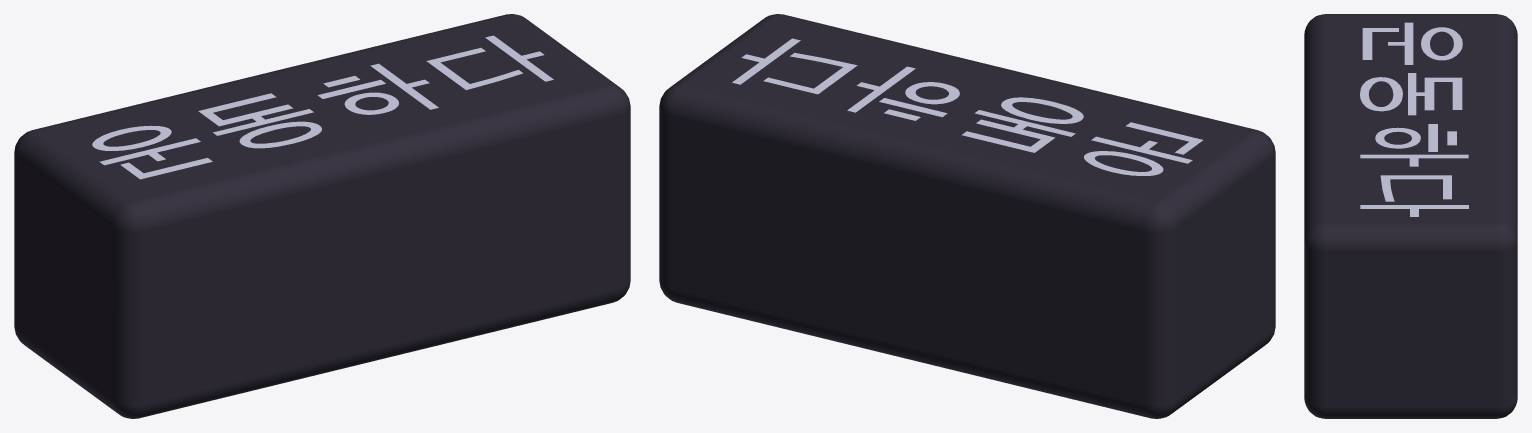
File: exercise.glb
3 renders of one model, left to right at view 1: azimuth 30°, elevation 25°; view 2: azimuth 150°, elevation 25°; view 3: azimuth 270°, elevation 25°, orthographic. The views are drawn at different scales.
Parts seen in each view (by area): view 1: Cut, Extrude; view 2: Cut, Extrude; view 3: Cut, Extrude.
Part boxes in pixels (x1=…): Cut: x1=14, y1=14, x2=630, y2=418; Extrude: x1=92, y1=35, x2=553, y2=179; Cut: x1=659, y1=14, x2=1275, y2=418; Extrude: x1=732, y1=38, x2=1202, y2=175; Cut: x1=1304, y1=14, x2=1517, y2=418; Extrude: x1=1360, y1=22, x2=1468, y2=216.
Size of the model in its own units: 5 by 2 by 2.
